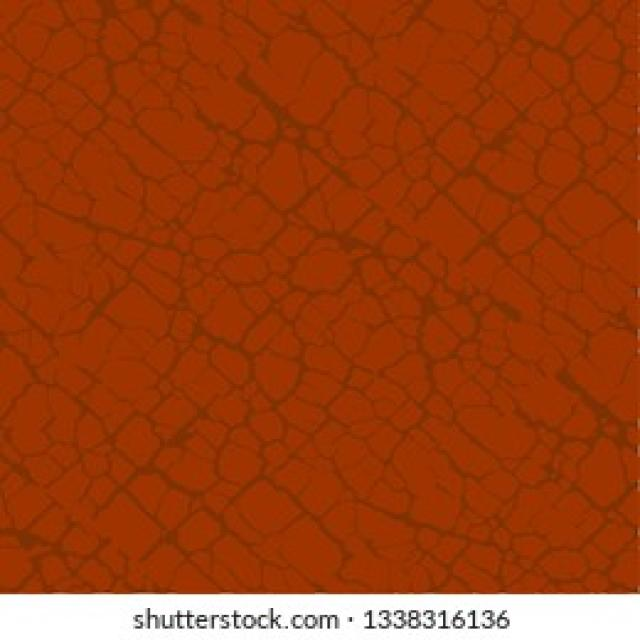Red Soil: (62, 52, 546, 534)
